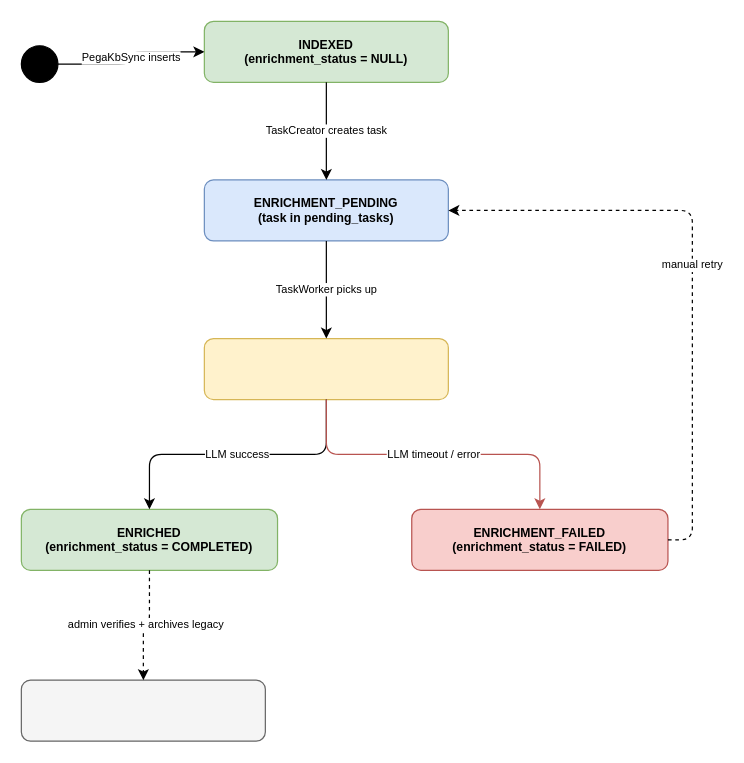
This 744x763 diagram has some shape labels left out. Here are the shapes that lost their labels. From the top down, the centre of each, then its label:
point 325,368: ENRICHING (LLM request in-flight)
point 142,710: ARCHIVED (legacy entry archived)
